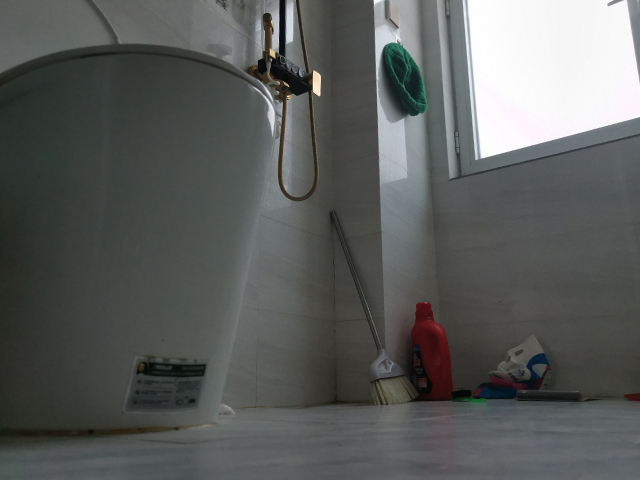closestool: (1, 1, 277, 439)
